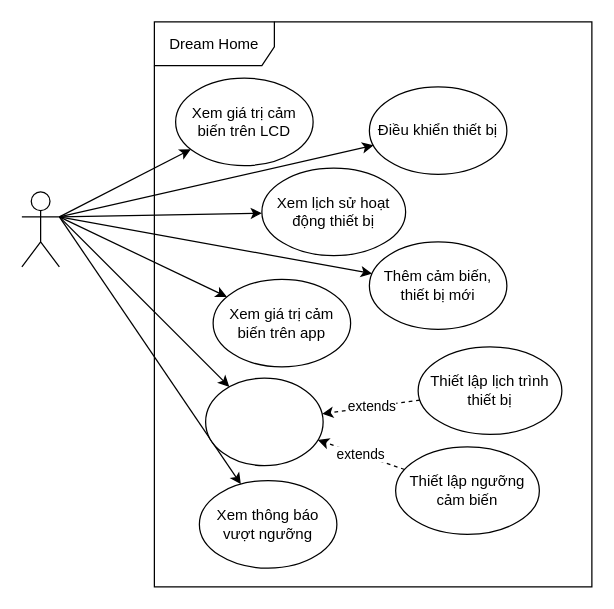
The diagram is 614 pixels wide and 609 high, and some of its shapes have lost their labels. Each missing label, with the box of its shape:
Thiết lập cảm biến, thiết bị: (204, 377, 323, 466)
User: (21, 191, 59, 267)
